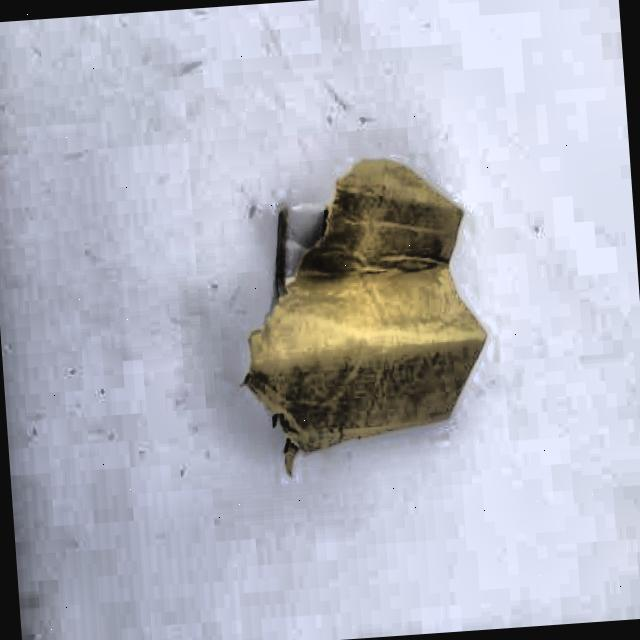cardboard: (228, 146, 496, 460)
